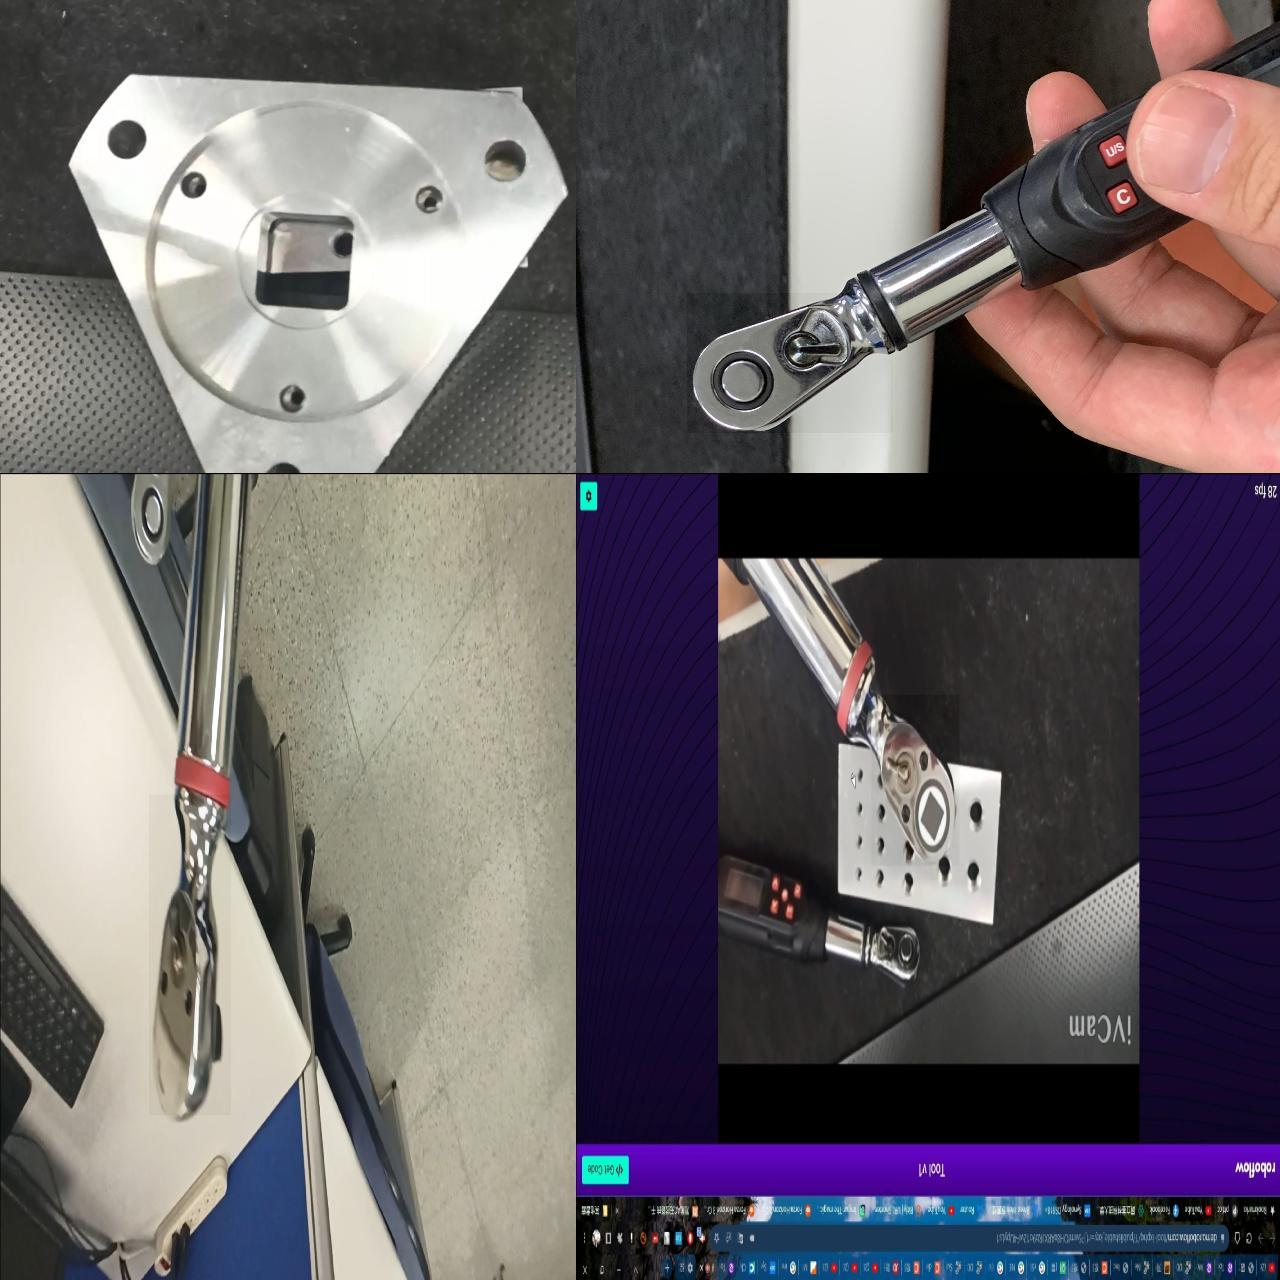Tool: (686, 292, 892, 432), (148, 794, 230, 1114), (871, 693, 959, 865), (871, 920, 920, 988)
